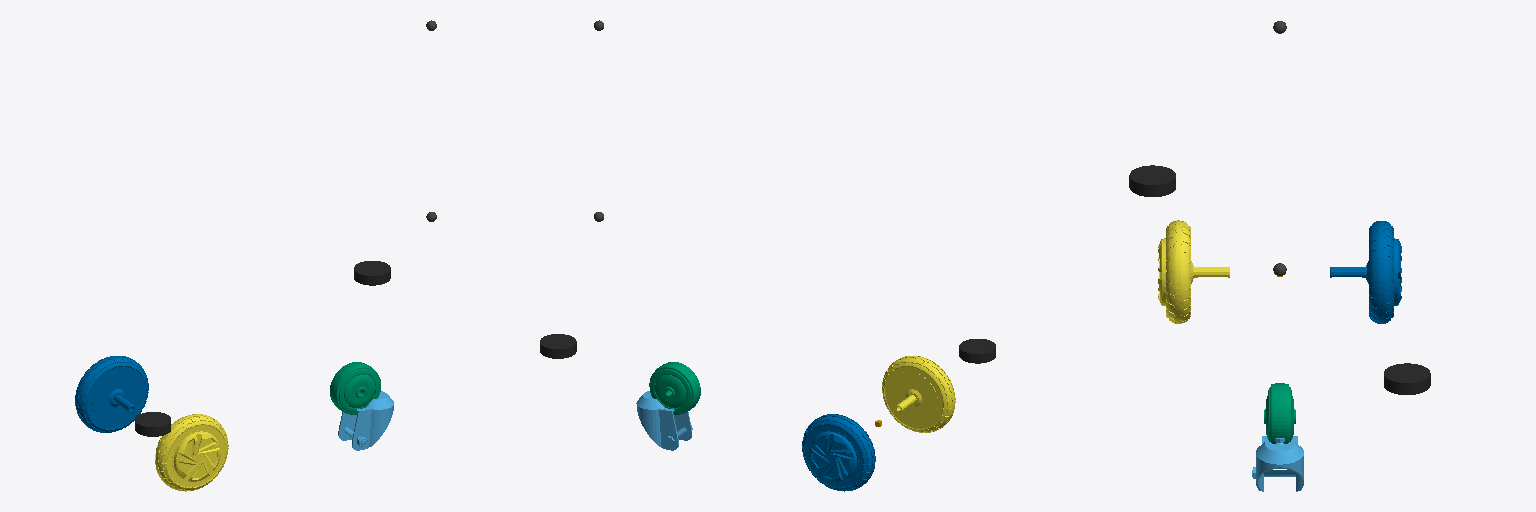
robot.urdf — green_description:
<?xml version="1.0" ?>
<!-- =================================================================================== -->
<!-- |    This document was autogenerated by xacro from green_jazzy.xacro              | -->
<!-- |    EDITING THIS FILE BY HAND IS NOT RECOMMENDED                                 | -->
<!-- =================================================================================== -->
<robot name="green_description">
  <!-- <xacro:property name="base_mass" value="63.5" /> -->
  <!-- Robot description -->
  <!-- Base Footprint -->
  <!-- <link name="base_footprint">
        <xacro:box_inertia m="8" w="0.001" d="0.001" h="0.001"/>
        <visual>
          <origin xyz="0 0 0" rpy="0 0 0" />
            <geometry>
                <box size="0.001 0.001 0.001" />
            </geometry>
        </visual>
    </link>  -->
  <!-- <gazebo reference="base_footprint">
        <material>Gazebo/white</material>
    </gazebo> -->
  <plugin filename="ignition-gazebo-pose-publisher-system" name="ignition::gazebo::systems::PosePublisher">
    <publish_link_pose>true</publish_link_pose>
    <publish_model_pose>true</publish_model_pose>
    <use_pose_vector_msg>true</use_pose_vector_msg>
    <static_publisher>false</static_publisher>
    <update_frequency>20</update_frequency>
  </plugin>
  <!-- Base Link -->
  <link name="base_link">
    <inertial>
      <origin rpy="0 0 0" xyz="0.25299 0 0.265"/>
      <mass value="63.5"/>
      <inertia ixx="5.308864583333333" ixy="0.0" ixz="0.0" iyy="5.993473958333333" iyz="0.0" izz="5.308864583333333"/>
    </inertial>
    <visual>
      <origin rpy="0 0 0" xyz="0.31299 0.0 -0.08"/>
      <geometry>
        <mesh filename="package://lognave_isaac/urdf/meshes/tractor.stl"/>
      </geometry>
    </visual>
    <collision>
      <origin rpy="0 0 -1.57" xyz="0.25299 0 0.265"/>
      <geometry>
        <box size="0.505 0.865 0.62"/>
      </geometry>
    </collision>
  </link>
  <gazebo reference="base_link">
    <material>Gazebo/Green</material>
  </gazebo>
  <!-- 
    <joint name="base_link_joint" type="fixed">
        <origin xyz="0.0 0.0 0.0" rpy="0 0 0"/>
        <parent link="base_footprint"/>
        <child link="base_link"/>
    </joint>     -->
  <!-- Front Fork -->
  <link name="front_fork">
    <inertial>
      <origin rpy="0 0 0" xyz="0 0 0"/>
      <mass value="1.0"/>
      <inertia ixx="0.0010000000000000002" ixy="0.0" ixz="0.0" iyy="0.0010000000000000002" iyz="0.0" izz="0.0010000000000000002"/>
    </inertial>
    <visual>
      <origin rpy="0 1.57 0" xyz="0 0 -0.05"/>
      <geometry>
        <mesh filename="package://lognave_isaac/urdf/meshes/front_fork.stl"/>
      </geometry>
    </visual>
    <!-- <collision>
             <origin xyz="0 0 0" rpy="1.57 0 0" />
             <geometry>
                <sphere radius="${fork_radius}"/>
            </geometry>   
        </collision> -->
  </link>
  <gazebo reference="front_fork">
    <material>Gazebo/Green</material>
  </gazebo>
  <joint name="front_fork_joint" type="continuous">
    <origin rpy="0 -1.5 0" xyz="0.44 0.0 -0.05"/>
    <parent link="base_link"/>
    <child link="front_fork"/>
    <axis xyz="0 0 1"/>
    <calibration falling="0" rising="0"/>
    <dynamics damping="0.00" friction="0.0"/>
    <safety_controller k_position="0" k_velocity="0" soft_lower="0" soft_upper="0"/>
  </joint>
  <!-- Front Wheel -->
  <link name="front_wheel">
    <inertial>
      <origin rpy="0 0 0" xyz="0 0 0"/>
      <mass value="1.0"/>
      <inertia ixx="0.0010000000000000002" ixy="0.0" ixz="0.0" iyy="0.0010000000000000002" iyz="0.0" izz="0.0010000000000000002"/>
    </inertial>
    <visual>
      <origin rpy="0 0 0" xyz="0 0 0"/>
      <geometry>
        <mesh filename="package://lognave_isaac/urdf/meshes/front_wheel.stl"/>
      </geometry>
    </visual>
    <collision>
      <origin rpy="0 0 0" xyz="0 0 0"/>
      <geometry>
        <sphere radius="0.05"/>
      </geometry>
    </collision>
  </link>
  <gazebo reference="front_wheel">
    <material>Gazebo/Black</material>
  </gazebo>
  <joint name="front_wheel_joint" type="continuous">
    <origin rpy="0 0 0" xyz="0.02 0 -0.005"/>
    <parent link="front_fork"/>
    <child link="front_wheel"/>
    <axis xyz="0 1 0"/>
    <calibration falling="0" rising="0"/>
    <dynamics damping="0.00" friction="0.0"/>
    <safety_controller k_position="0" k_velocity="0" soft_lower="0" soft_upper="0"/>
  </joint>
  <link name="left_rear_wheel">
    <inertial>
      <origin rpy="0 0 0" xyz="0 0 0"/>
      <mass value="1.0"/>
      <inertia ixx="0.00225" ixy="0.0" ixz="0.0" iyy="0.00225" iyz="0.0" izz="0.00225"/>
    </inertial>
    <visual>
      <origin rpy="0 0 0" xyz="0 0 0"/>
      <geometry>
        <mesh filename="package://lognave_isaac/urdf/meshes/right_rear_wheel.stl"/>
      </geometry>
    </visual>
    <collision>
      <origin rpy="0 0 0" xyz="0 0.075 0"/>
      <geometry>
        <sphere radius="0.075"/>
      </geometry>
    </collision>
  </link>
  <gazebo reference="left_rear_wheel">
    <material>Gazebo/Black</material>
  </gazebo>
  <joint name="left_rear_wheel_joint" type="continuous">
    <origin rpy="0 0 0" xyz="0 -0.075 0"/>
    <parent link="base_link"/>
    <child link="left_rear_wheel"/>
    <axis xyz="0 1 0"/>
    <calibration falling="0" rising="0"/>
    <dynamics damping="0.00" friction="0.0"/>
    <safety_controller k_position="0" k_velocity="0" soft_lower="0" soft_upper="0"/>
  </joint>
  <link name="right_rear_wheel">
    <inertial>
      <origin rpy="0 0 0" xyz="0 0 0"/>
      <mass value="1.0"/>
      <inertia ixx="0.00225" ixy="0.0" ixz="0.0" iyy="0.00225" iyz="0.0" izz="0.00225"/>
    </inertial>
    <visual>
      <origin rpy="0 0 3.14" xyz="0 0 0"/>
      <geometry>
        <mesh filename="package://lognave_isaac/urdf/meshes/right_rear_wheel.stl"/>
      </geometry>
    </visual>
    <collision>
      <origin rpy="0 0 0" xyz="0 -0.075 0"/>
      <geometry>
        <sphere radius="0.075"/>
      </geometry>
    </collision>
  </link>
  <gazebo reference="right_rear_wheel">
    <material>Gazebo/Black</material>
  </gazebo>
  <joint name="right_rear_wheel_joint" type="continuous">
    <origin rpy="0 0 0" xyz="0 0.075 0"/>
    <parent link="base_link"/>
    <child link="right_rear_wheel"/>
    <axis xyz="0 1 0"/>
    <calibration falling="0" rising="0"/>
    <dynamics damping="0.00" friction="0.0"/>
    <safety_controller k_position="0" k_velocity="0" soft_lower="0" soft_upper="0"/>
  </joint>
  <joint name="camera_joint" type="fixed">
    <parent link="base_link"/>
    <child link="camera_link"/>
    <origin rpy="0 0 -1.57" xyz="0.61299 0.0 0.29"/>
  </joint>
  <link name="camera_link">
    <inertial>
      <origin rpy="0 0 0" xyz="0 0 0"/>
      <mass value="1"/>
      <inertia ixx="0.004000000000000001" ixy="0.0" ixz="0.0" iyy="0.004000000000000001" iyz="0.0" izz="0.004000000000000001"/>
    </inertial>
    <visual>
      <origin rpy="0 0 0" xyz="0 0 0"/>
      <geometry>
        <sphere radius="0.01"/>
      </geometry>
      <material name="">
        <color rgba="0.29804 0.29804 0.29804 1"/>
      </material>
    </visual>
    <collision>
      <origin rpy="0 0 0" xyz="0 0 0"/>
      <geometry>
        <sphere radius="0.01"/>
      </geometry>
    </collision>
  </link>
  <joint name="camera_optical_joint" type="fixed">
    <parent link="camera_link"/>
    <child link="camera_link_optical"/>
    <origin rpy="0 0 1.5708" xyz="0 0 0"/>
  </joint>
  <link name="camera_link_optical"/>
  <!-- Camera Gazebo Sensor Plugin -->
  <gazebo reference="camera_link">
    <material>Gazebo/Black</material>
    <sensor name="rgbd_camera" type="rgbd_camera">
      <pose> 0 0 0 0 0 1.5708 </pose>
      <always_on>true</always_on>
      <visualize>true</visualize>
      <update_rate>30</update_rate>
      <topic>camera</topic>
      <gz_frame_id>camera_link</gz_frame_id>
      <camera>
        <optical_frame_id>camera_link_optical</optical_frame_id>
        <camera_info_topic>camera/camera_info</camera_info_topic>
        <horizontal_fov>1.089</horizontal_fov>
        <image>
          <format>R8G8B8</format>
          <width>640</width>
          <height>480</height>
        </image>
        <clip>
          <near>0.05</near>
          <far>30.0</far>
        </clip>
      </camera>
    </sensor>
  </gazebo>
  <joint name="laser_joint" type="fixed">
    <parent link="base_link"/>
    <child link="laser_frame"/>
    <origin rpy="0 0 0" xyz="0.61299 0.0 0.69"/>
  </joint>
  <link name="laser_frame">
    <inertial>
      <origin rpy="0 0 0" xyz="0 0 0"/>
      <mass value="1"/>
      <inertia ixx="0.004000000000000001" ixy="0.0" ixz="0.0" iyy="0.004000000000000001" iyz="0.0" izz="0.004000000000000001"/>
    </inertial>
    <visual>
      <origin rpy="0 0 0" xyz="0 0 0"/>
      <geometry>
        <sphere radius="0.01"/>
      </geometry>
      <material name="">
        <color rgba="0.29804 0.29804 0.29804 1"/>
      </material>
    </visual>
    <collision>
      <origin rpy="0 0 0" xyz="0 0 0"/>
      <geometry>
        <sphere radius="0.01"/>
      </geometry>
    </collision>
  </link>
  <gazebo reference="laser_frame">
    <material>Gazebo/Black</material>
    <sensor name="laser" type="gpu_lidar">
      <pose> 0 0 0 0 0 0 </pose>
      <visualize>false</visualize>
      <update_rate>10</update_rate>
      <lidar>
        <scan>
          <horizontal>
            <samples>440</samples>
            <resolution>1</resolution>
            <min_angle>-1.57</min_angle>
            <max_angle>1.57</max_angle>
          </horizontal>
          <vertical>
            <samples>16</samples>
            <resolution>1</resolution>
            <min_angle>-0.261799</min_angle>
            <max_angle>0.261799</max_angle>
          </vertical>
        </scan>
        <range>
          <min>0.5</min>
          <max>100</max>
          <resolution>0.001</resolution>
        </range>
      </lidar>
      <topic>points</topic>
      <gz_frame_id>laser_frame</gz_frame_id>
    </sensor>
  </gazebo>
  <link name="imu_link">
    <visual name="imu_visual">
      <geometry>
        <box size="0.01 0.01 0.01"/>
      </geometry>
    </visual>
    <inertial>
      <mass value="0.001"/>
      <inertia ixx="1.6666666666666669e-06" ixy="0.0" ixz="0.0" iyy="8.453333333333335e-07" iyz="0.0" izz="1.6666666666666669e-06"/>
    </inertial>
  </link>
  <joint name="imu_joint" type="fixed">
    <parent link="base_link"/>
    <child link="imu_link"/>
    <origin rpy="0 0 0" xyz="0 0 0"/>
  </joint>
  <gazebo reference="imu_link">
    <sensor name="imu_sensor" type="imu">
      <always_on>1</always_on>
      <update_rate>50</update_rate>
      <imu>
        <enable_orientation>0</enable_orientation>
        <angular_velocity>
          <x>
            <noise type="gaussian">
              <mean>0</mean>
              <stddev>0.009</stddev>
              <bias_mean>0.00075</bias_mean>
              <bias_stddev>0.005</bias_stddev>
              <dynamic_bias_stddev>0.00002</dynamic_bias_stddev>
              <dynamic_bias_correlation_time>400.0</dynamic_bias_correlation_time>
              <precision>0.00025</precision>
            </noise>
          </x>
          <y>
            <noise type="gaussian">
              <mean>0</mean>
              <stddev>0.009</stddev>
              <bias_mean>0.00075</bias_mean>
              <bias_stddev>0.005</bias_stddev>
              <dynamic_bias_stddev>0.00002</dynamic_bias_stddev>
              <dynamic_bias_correlation_time>400.0</dynamic_bias_correlation_time>
              <precision>0.00025</precision>
            </noise>
          </y>
          <z>
            <noise type="gaussian">
              <mean>0</mean>
              <stddev>0.009</stddev>
              <bias_mean>0.00075</bias_mean>
              <bias_stddev>0.005</bias_stddev>
              <dynamic_bias_stddev>0.00002</dynamic_bias_stddev>
              <dynamic_bias_correlation_time>400.0</dynamic_bias_correlation_time>
              <precision>0.00025</precision>
            </noise>
          </z>
        </angular_velocity>
        <linear_acceleration>
          <x>
            <noise type="gaussian">
              <mean>0</mean>
              <stddev>0.021</stddev>
              <bias_mean>0.05</bias_mean>
              <bias_stddev>0.0075</bias_stddev>
              <dynamic_bias_stddev>0.000375</dynamic_bias_stddev>
              <dynamic_bias_correlation_time>175.0</dynamic_bias_correlation_time>
              <precision>0.005</precision>
            </noise>
          </x>
          <y>
            <noise type="gaussian">
              <mean>0</mean>
              <stddev>0.021</stddev>
              <bias_mean>0.05</bias_mean>
              <bias_stddev>0.0075</bias_stddev>
              <dynamic_bias_stddev>0.000375</dynamic_bias_stddev>
              <dynamic_bias_correlation_time>175.0</dynamic_bias_correlation_time>
              <precision>0.005</precision>
            </noise>
          </y>
          <z>
            <noise type="gaussian">
              <mean>0</mean>
              <stddev>0.021</stddev>
              <bias_mean>0.05</bias_mean>
              <bias_stddev>0.0075</bias_stddev>
              <dynamic_bias_stddev>0.000375</dynamic_bias_stddev>
              <dynamic_bias_correlation_time>175.0</dynamic_bias_correlation_time>
              <precision>0.005</precision>
            </noise>
          </z>
        </linear_acceleration>
      </imu>
      <topic>imu</topic>
      <gz_frame_id>imu_link</gz_frame_id>
    </sensor>
  </gazebo>
  <ros2_control name="GazeboSimSystem" type="system">
    <hardware>
      <plugin>gz_ros2_control/GazeboSimSystem</plugin>
    </hardware>
    <joint name="right_rear_wheel_joint">
      <command_interface name="velocity">
        <param name="min">-1</param>
        <param name="max">1</param>
      </command_interface>
      <state_interface name="velocity"/>
      <state_interface name="position"/>
    </joint>
    <joint name="left_rear_wheel_joint">
      <command_interface name="velocity">
        <param name="min">-1</param>
        <param name="max">1</param>
      </command_interface>
      <state_interface name="velocity"/>
      <state_interface name="position"/>
    </joint>
    <joint name="front_fork_joint">
      <state_interface name="velocity"/>
      <state_interface name="position"/>
    </joint>
    <joint name="front_wheel_joint">
      <state_interface name="velocity"/>
      <state_interface name="position"/>
    </joint>
  </ros2_control>
  <gazebo>
    <plugin filename="gz_ros2_control-system" name="gz_ros2_control::GazeboSimROS2ControlPlugin">
      <!--<robot_sim_type>gazebo_ros2_control/GazeboSystem</robot_sim_type>
          <robot_param>robot_description</robot_param>
          <robot_namespace>freedom_vehicle</robot_namespace>
          <robot_param_node>robot_state_publisher</robot_param_node>-->
      <parameters>[local-path]/lognav/lognav_simulation/config/green_jazzy_controllers.yaml</parameters>
    </plugin>
  </gazebo>
  <!-- Front Rplidar-->
  <link name="front_rplidar_link">
    <collision>
      <geometry>
        <cylinder length="0.02" radius="0.035"/>
      </geometry>
      <origin rpy="0 0 0" xyz="0 0 0.01"/>
    </collision>
    <visual>
      <geometry>
        <cylinder length="0.02" radius="0.035"/>
      </geometry>
      <material name="dark_gray">
        <color rgba="0.2 0.2 0.2 1"/>
      </material>
      <origin rpy="0 0 0" xyz="0 0 0.01"/>
    </visual>
    <inertial>
      <mass value="0.2"/>
      <origin rpy="0 0 0" xyz="0 0 0.01"/>
      <inertia ixx="0.001" ixy="0.0" ixz="0.0" iyy="0.001" iyz="0.0" izz="0.001"/>
    </inertial>
  </link>
  <joint name="front_rplidar_joint" type="fixed">
    <parent link="base_link"/>
    <child link="front_rplidar_link"/>
    <origin rpy="0 0 0" xyz="0.59299 0.19 0.09"/>
  </joint>
  <gazebo reference="front_rplidar_link">
    <material>Gazebo/Black</material>
    <sensor name="laser1" type="gpu_lidar">
      <pose> 0 0 0 0 0 0 </pose>
      <visualize>false</visualize>
      <update_rate>10</update_rate>
      <lidar>
        <scan>
          <horizontal>
            <samples>440</samples>
            <!-- originally 1200 samples -->
            <resolution>1</resolution>
            <min_angle>-1.25</min_angle>
            <max_angle>2.6</max_angle>
          </horizontal>
        </scan>
        <range>
          <min>0.2</min>
          <max>12</max>
          <resolution>0.01</resolution>
        </range>
      </lidar>
      <topic>scan1</topic>
      <gz_frame_id>front_rplidar_link</gz_frame_id>
    </sensor>
  </gazebo>
  <!-- Rear Rplidar-->
  <link name="rear_rplidar_link">
    <collision>
      <geometry>
        <cylinder length="0.02" radius="0.035"/>
      </geometry>
      <origin rpy="0 0 0" xyz="0 0 0.01"/>
    </collision>
    <visual>
      <geometry>
        <cylinder length="0.02" radius="0.035"/>
      </geometry>
      <material name="dark_gray">
        <color rgba="0.2 0.2 0.2 1"/>
      </material>
      <origin rpy="0 0 0" xyz="0 0 0.01"/>
    </visual>
    <inertial>
      <mass value="0.2"/>
      <origin rpy="0 0 0" xyz="0 0 0.01"/>
      <inertia ixx="0.001" ixy="0.0" ixz="0.0" iyy="0.001" iyz="0.0" izz="0.001"/>
    </inertial>
  </link>
  <joint name="rear_rplidar_joint" type="fixed">
    <parent link="base_link"/>
    <child link="rear_rplidar_link"/>
    <origin rpy="0 0 -1.57" xyz="-0.10701 -0.19 0.09"/>
  </joint>
  <gazebo reference="rear_rplidar_link">
    <material>Gazebo/Black</material>
    <sensor name="laser2" type="gpu_lidar">
      <pose> 0 0 0 0 0 0 </pose>
      <visualize>false</visualize>
      <update_rate>10</update_rate>
      <lidar>
        <scan>
          <horizontal>
            <samples>440</samples>
            <!-- originally 1200 samples -->
            <resolution>1</resolution>
            <min_angle>-2.6</min_angle>
            <max_angle>1.25</max_angle>
          </horizontal>
        </scan>
        <range>
          <min>0.2</min>
          <max>12</max>
          <resolution>0.01</resolution>
        </range>
      </lidar>
      <topic>scan2</topic>
      <gz_frame_id>rear_rplidar_link</gz_frame_id>
    </sensor>
  </gazebo>
</robot>

--- What the picture shows (computed from the rendered views, not written in the file) ---
Views: 3 orthographic renders of the robot side by side, from view 1: azimuth 30°, elevation 25°; view 2: azimuth 150°, elevation 25°; view 3: azimuth 270°, elevation 25°.
Model green_description with 11 links and 10 joints (4 continuous, 6 fixed), rooted at base_link, posed all joints at 0.
Visible links, largest first — view 1: right_rear_wheel, left_rear_wheel, front_wheel, front_fork, front_rplidar_link, rear_rplidar_link; view 2: left_rear_wheel, right_rear_wheel, front_wheel, front_fork, front_rplidar_link, rear_rplidar_link; view 3: right_rear_wheel, left_rear_wheel, front_fork, front_wheel, front_rplidar_link, rear_rplidar_link.
Link boxes in pixels (bbox=[...]): right_rear_wheel: bbox=[75, 356, 148, 432]; left_rear_wheel: bbox=[155, 414, 228, 491]; front_wheel: bbox=[330, 362, 380, 414]; front_fork: bbox=[338, 391, 393, 450]; front_rplidar_link: bbox=[354, 261, 390, 285]; rear_rplidar_link: bbox=[135, 412, 170, 436]; left_rear_wheel: bbox=[882, 356, 955, 432]; right_rear_wheel: bbox=[802, 414, 875, 491]; front_wheel: bbox=[649, 362, 700, 414]; front_fork: bbox=[636, 391, 692, 450]; front_rplidar_link: bbox=[540, 334, 576, 358]; rear_rplidar_link: bbox=[959, 339, 995, 363]; right_rear_wheel: bbox=[1330, 221, 1401, 323]; left_rear_wheel: bbox=[1158, 220, 1229, 323]; front_fork: bbox=[1252, 436, 1303, 491]; front_wheel: bbox=[1264, 383, 1295, 443]; front_rplidar_link: bbox=[1384, 363, 1430, 394]; rear_rplidar_link: bbox=[1129, 165, 1175, 196].
Size in the robot's own frame: 0.77 by 0.45 by 0.8488 metres.
Meshes: 4 distinct files referenced, 4 mesh visuals loaded (3 binary STL); not drawn: 1 (reference not matched to a file when rendering).
